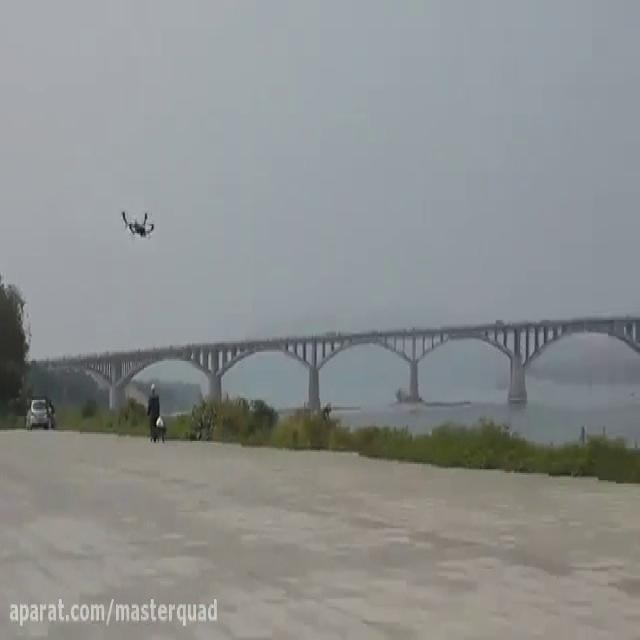drone: (119, 204, 159, 243)
